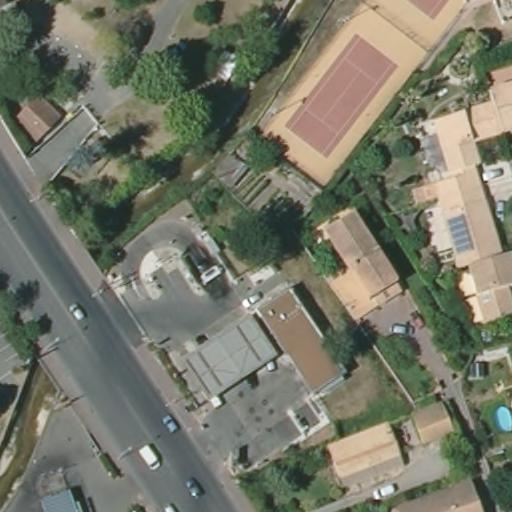pool: (494, 401, 511, 437)
